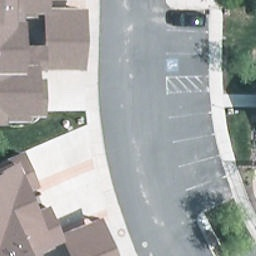car: (172, 13, 206, 26)
